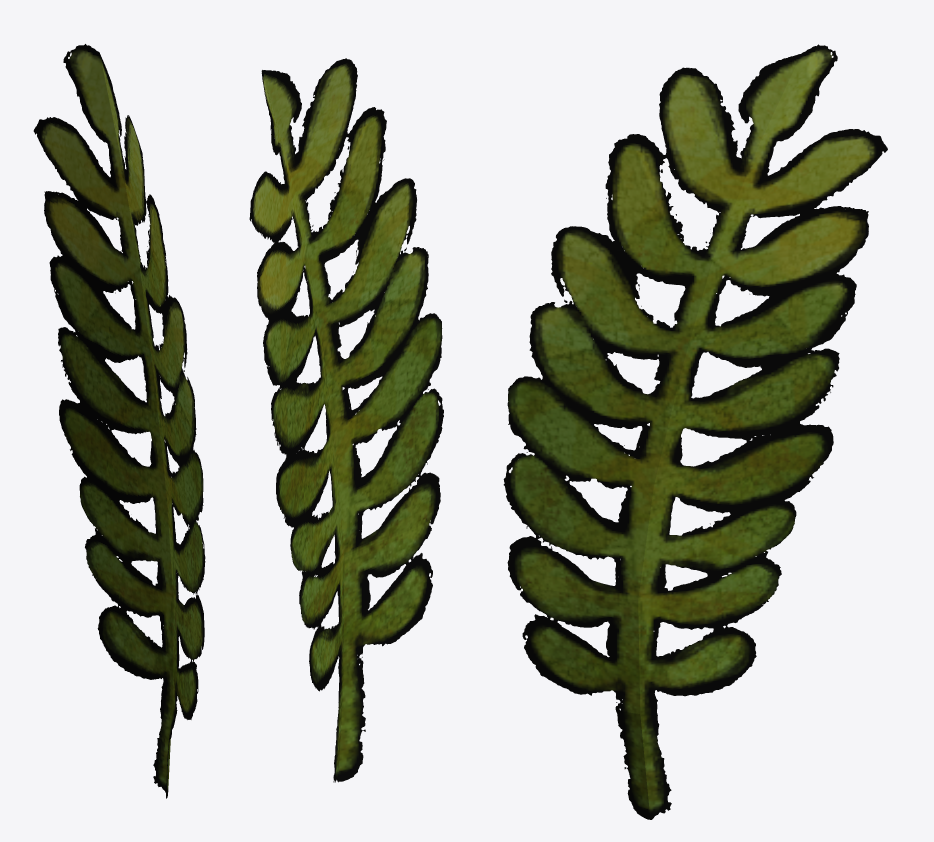
File: grass_2B_mesh.fbx
3 renders of one model, left to right at view 1: azimuth 30°, elevation 25°; view 2: azimuth 150°, elevation 25°; view 3: azimuth 270°, elevation 25°, orthographic. The views are drawn at different scales.
Parts seen in each view (by area): view 1: grass_2B; view 2: grass_2B; view 3: grass_2B.
Boxes of the visible parts, box(x1,y1,x2,y2) form: grass_2B: box(33, 44, 205, 798); grass_2B: box(249, 58, 443, 782); grass_2B: box(503, 44, 887, 819).
Bounding box in the file's own units: 3.28 × 70.33 × 34.77.
